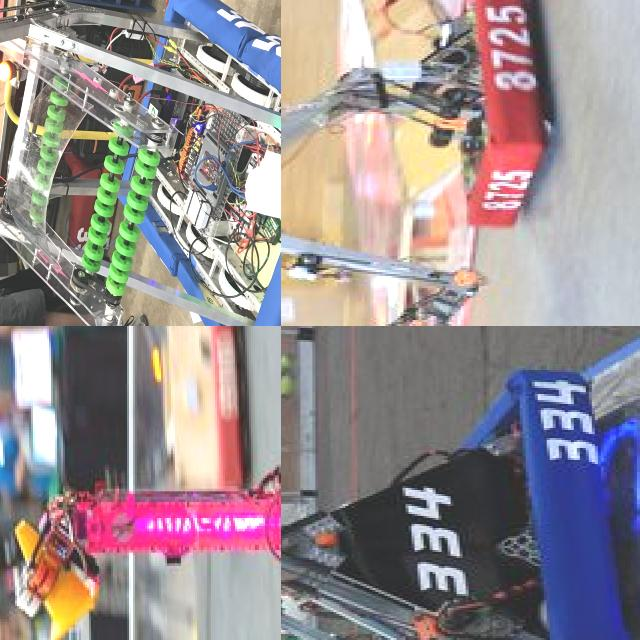FRC-Robots: (281, 0, 567, 326), (281, 361, 610, 640), (0, 0, 281, 326), (0, 326, 281, 640), (101, 326, 241, 534)
